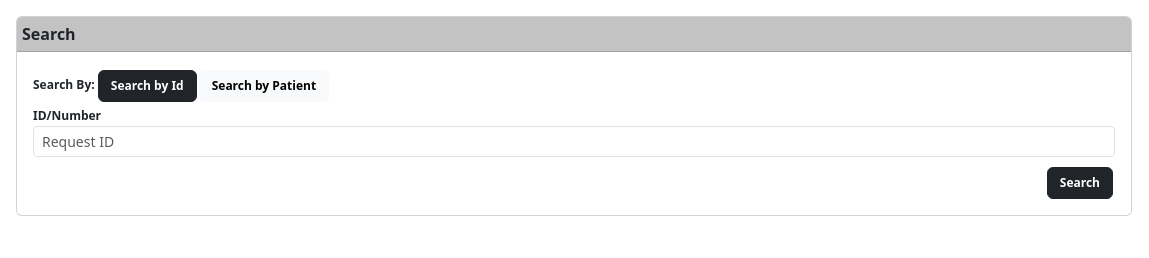
Test: SearchRequestView Component › shows validation error when ID search form is submitted with invalid ID
The image size is (1149, 258).
Type "123" into the field with placeholder "Request ID".
click(574, 142); type("123")  # box 33,126 -> 1115,157
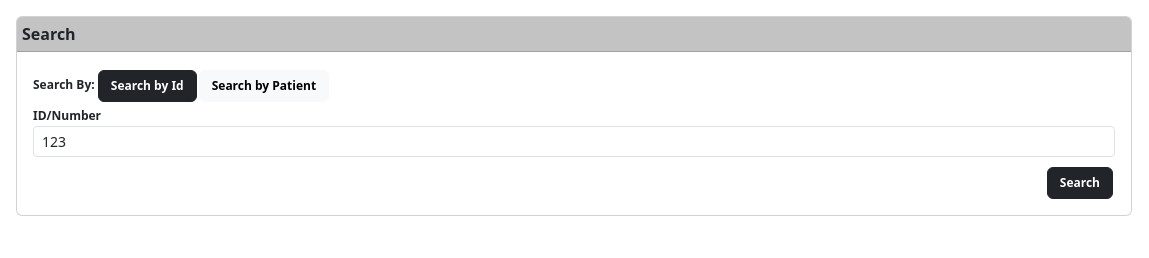
Click the button "Search".
click(1080, 183)  # box 1047,167 -> 1113,199
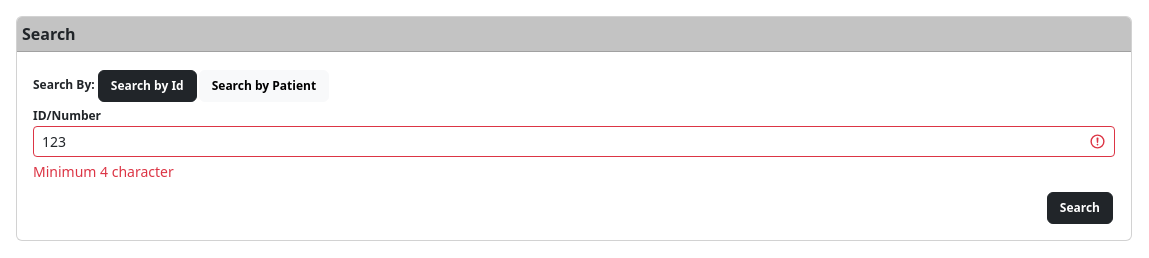
Now the text "Minimum 4 character" is shown, box 33,162 -> 174,181
